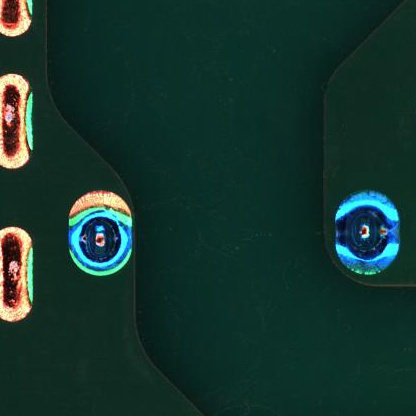spot: (320, 168, 406, 295), (57, 175, 148, 288)
